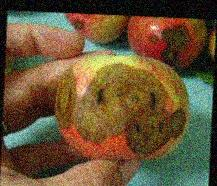rotten apple: (51, 53, 194, 164), (126, 17, 205, 67), (63, 14, 126, 45)
